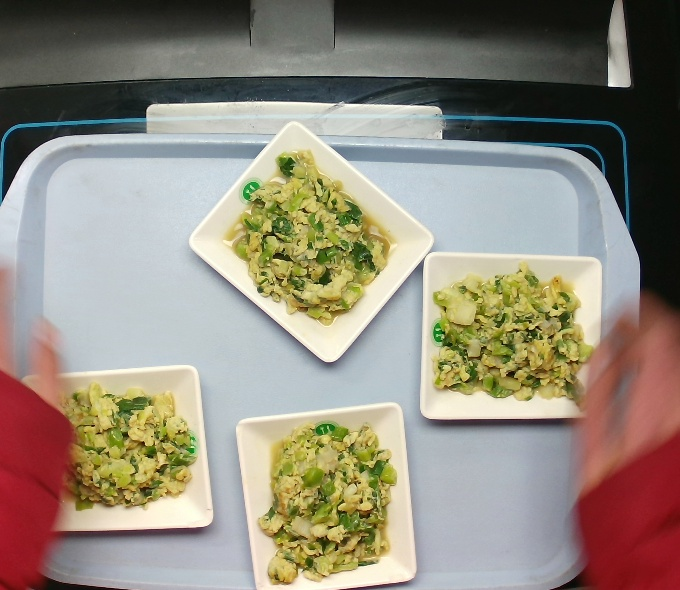wcq-SuanMiaoChaoDan: (227, 139, 401, 331), (424, 258, 608, 412), (246, 422, 414, 590), (39, 373, 203, 531)
